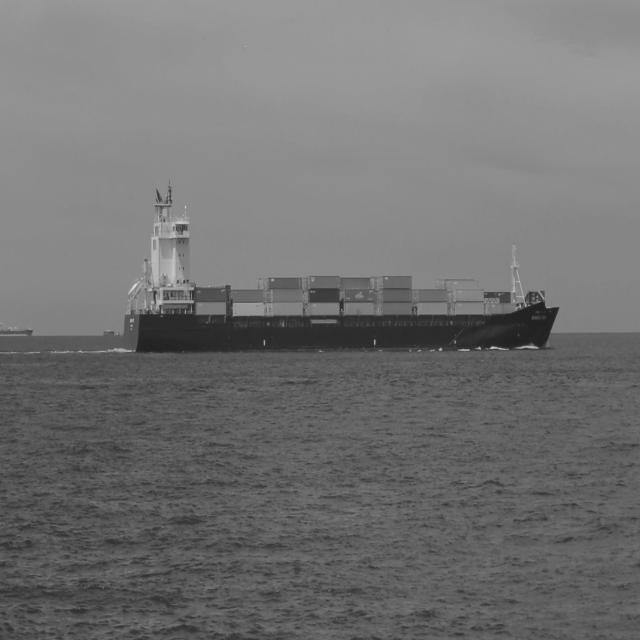ship: (123, 184, 559, 352)
